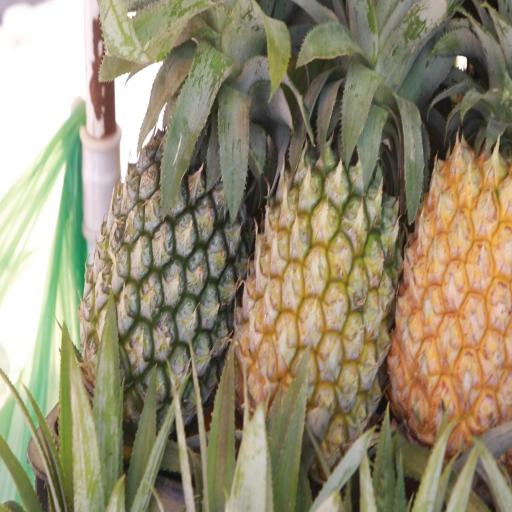------------------------------: (234, 21, 403, 477)
Pineapple - v8 v1: (386, 0, 512, 480)
